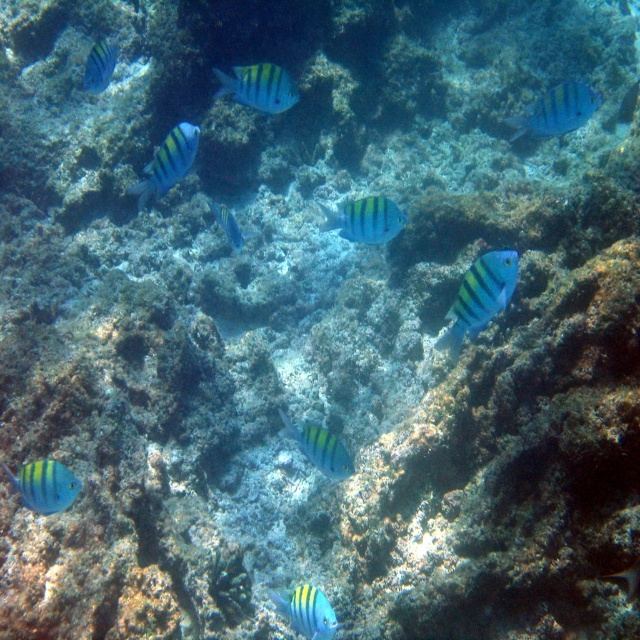Fish: (441, 245, 533, 347), (503, 78, 611, 145), (276, 403, 358, 483), (126, 122, 202, 205), (319, 199, 412, 252), (216, 61, 302, 117), (2, 459, 83, 517), (261, 577, 335, 639), (80, 32, 120, 94), (212, 197, 244, 253)
